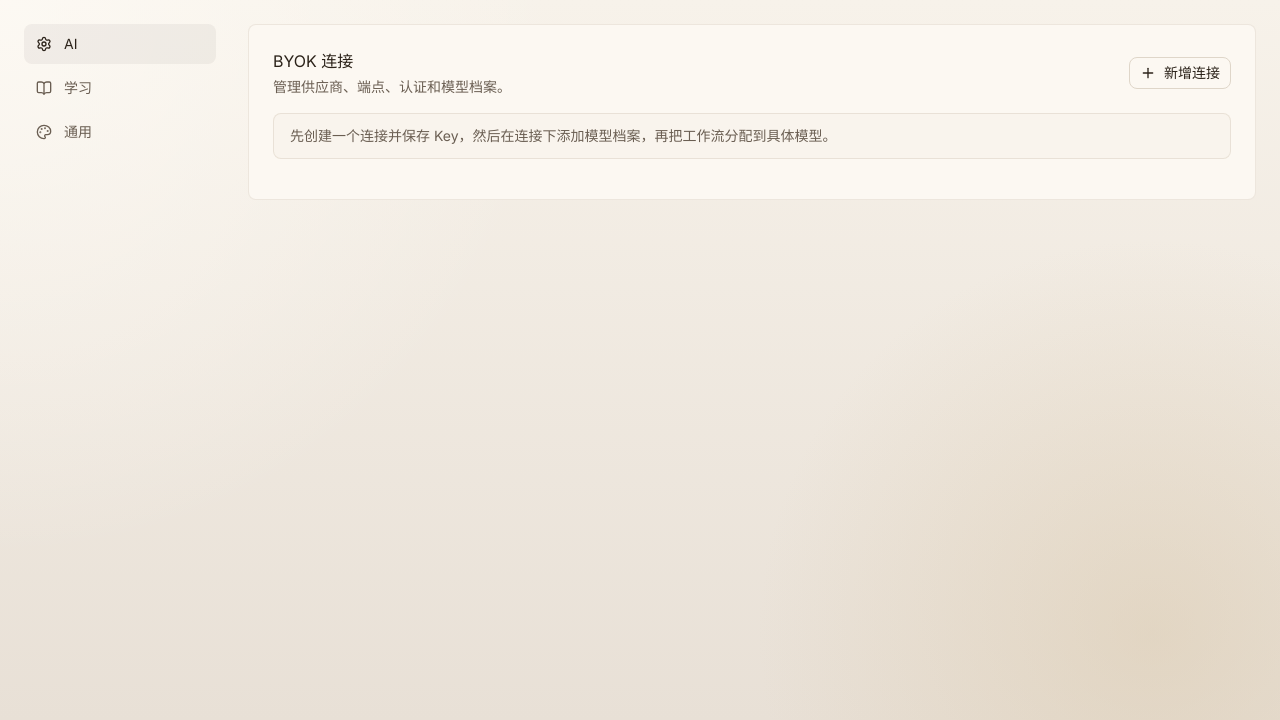
Scenario: theme provider › applies the light theme and renders theme choices as a select
Click the button "通用".
click(120, 132)  # box 24,112 -> 216,152
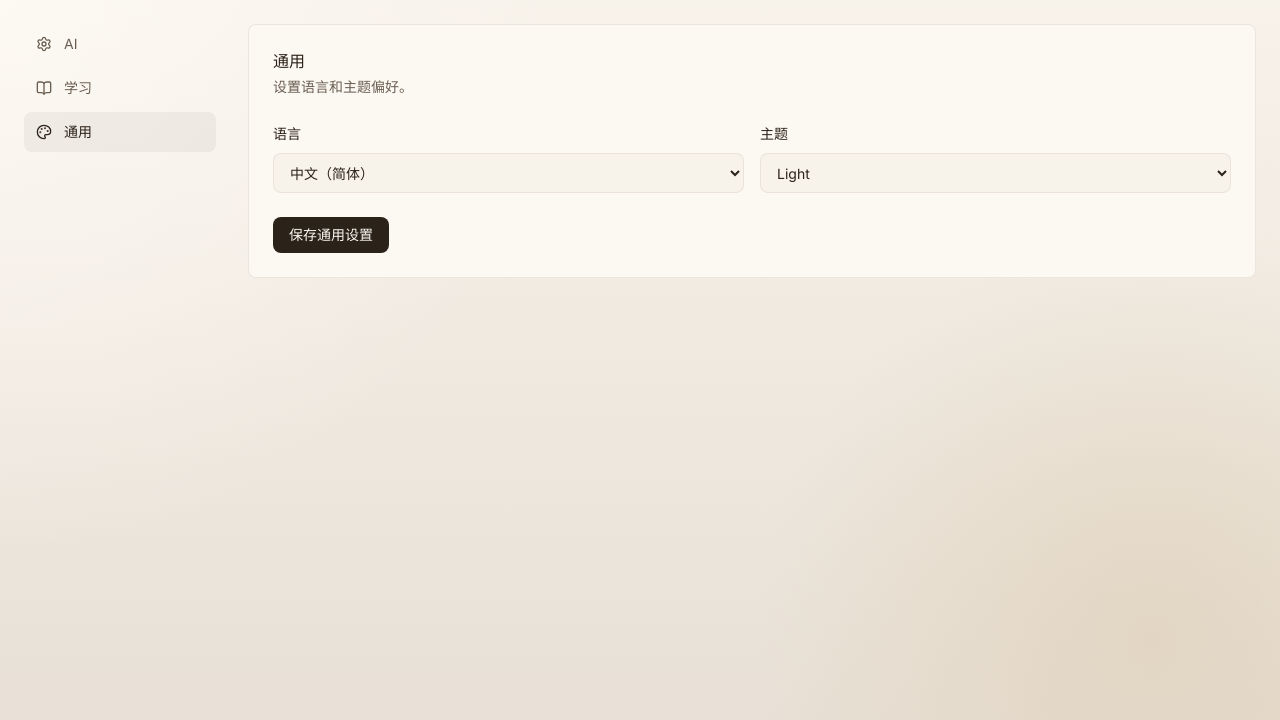
Check: the dropdown with test id "settings-theme-select" shows "Light", box 760,153 -> 1231,193
